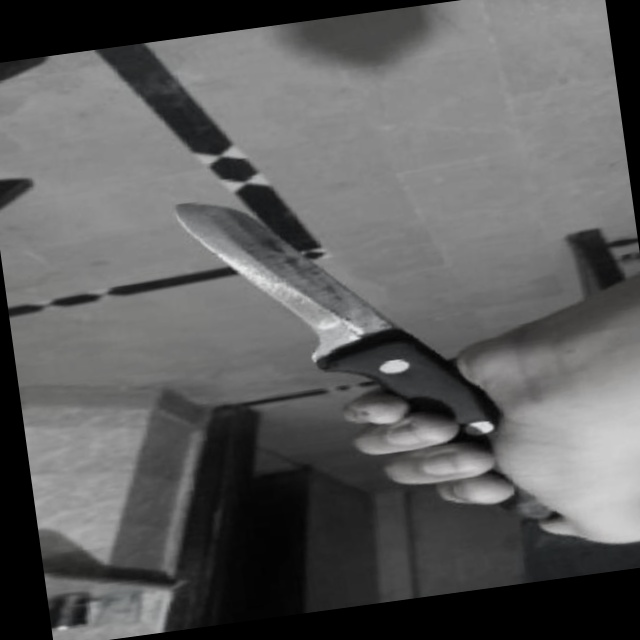Sharp-Object: (172, 159, 557, 563)
